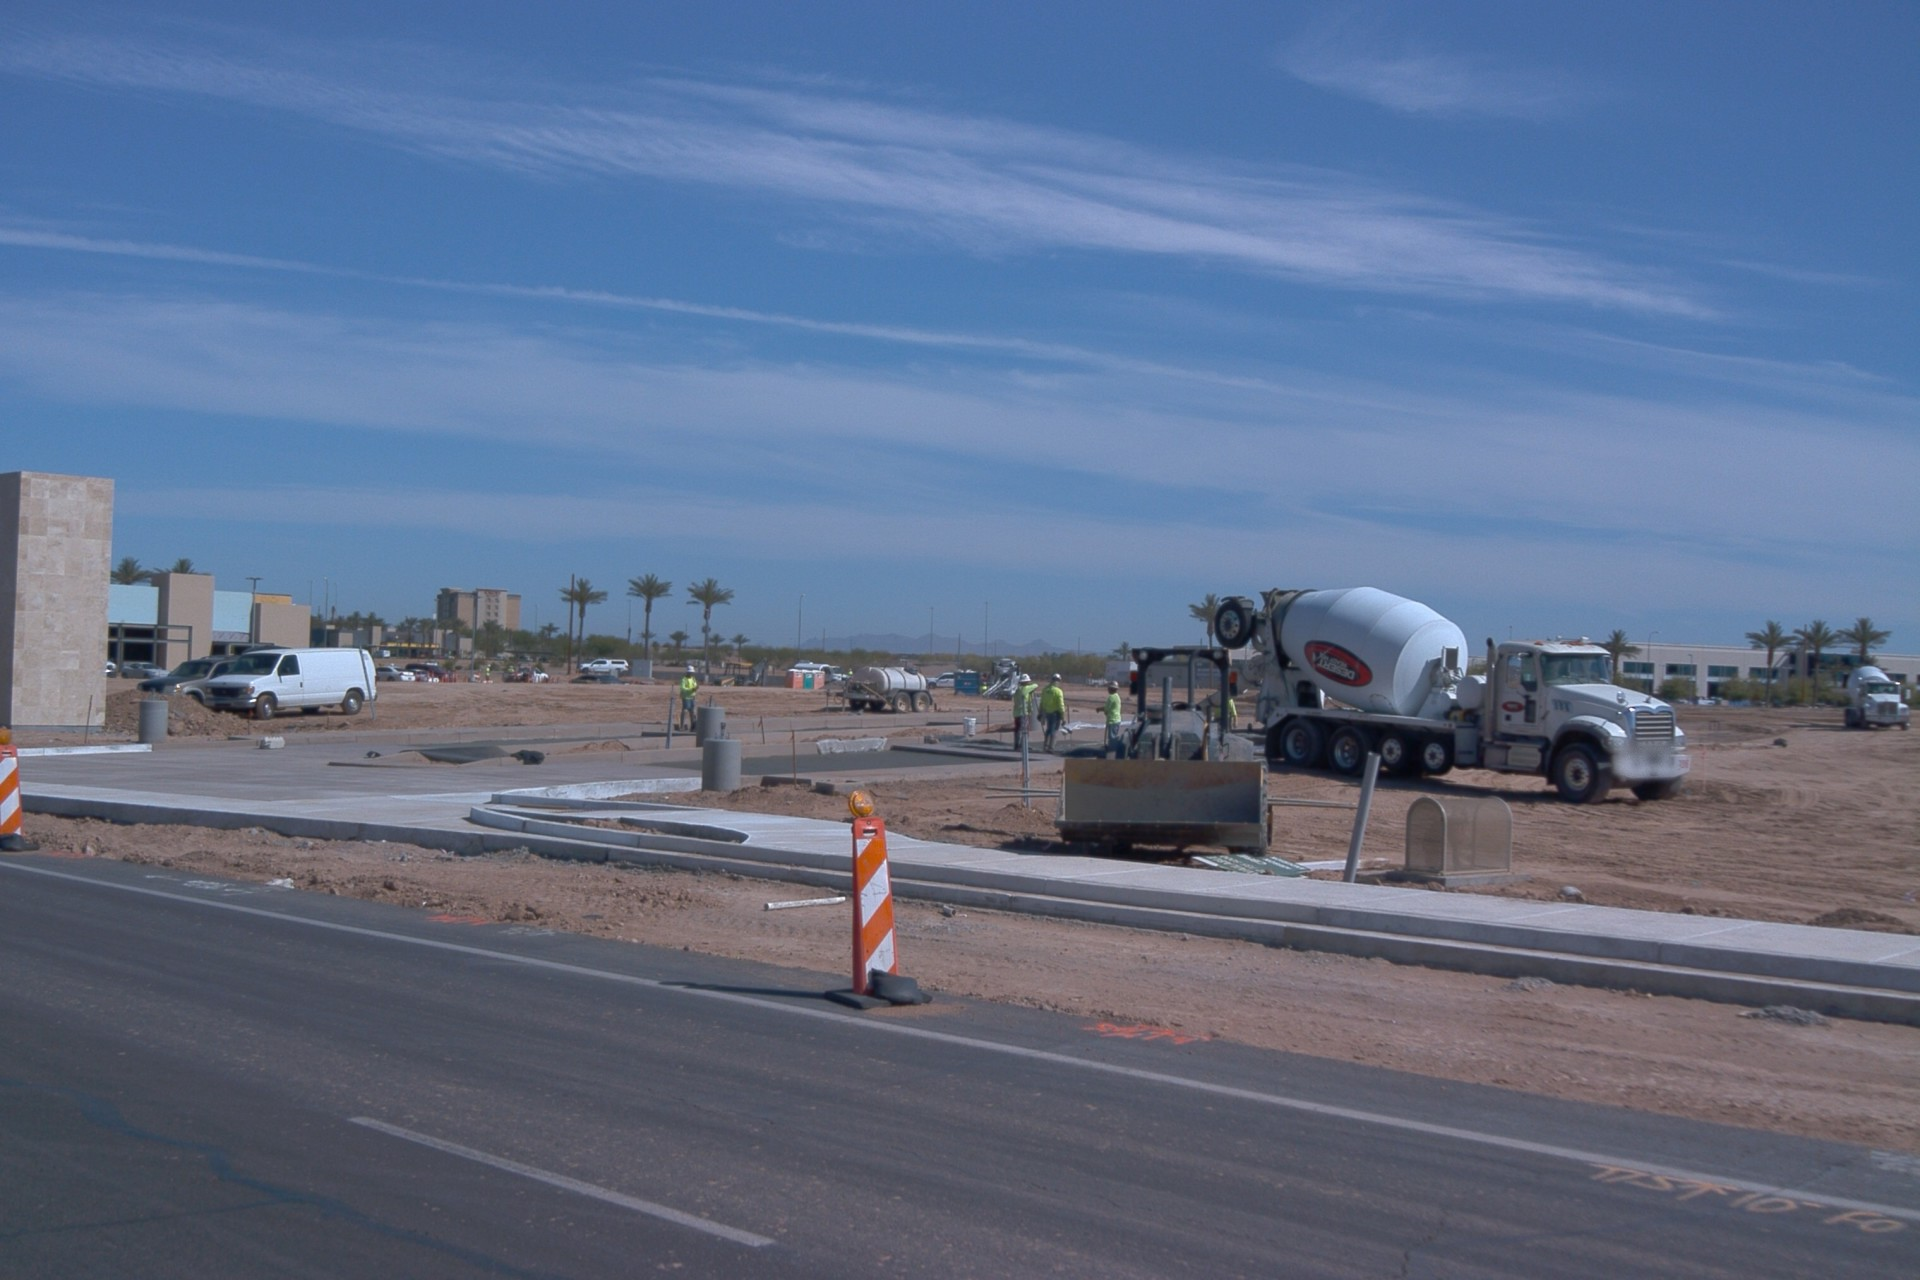TYPE_PEDESTRIAN: (1036, 671, 1065, 755), (1011, 674, 1040, 752), (1097, 680, 1124, 753), (678, 665, 702, 732), (1208, 688, 1240, 736), (481, 659, 494, 683), (980, 679, 991, 697), (506, 663, 516, 675)
TYPE_VEHICLE: (1199, 585, 1698, 807), (1053, 639, 1277, 866), (202, 648, 377, 723), (135, 656, 240, 715), (823, 661, 933, 715), (1842, 666, 1908, 731), (981, 658, 1025, 705), (709, 655, 767, 688), (794, 660, 851, 684), (501, 664, 549, 685), (123, 663, 174, 681), (580, 658, 631, 675), (404, 663, 449, 681), (372, 666, 416, 683), (568, 676, 625, 687), (927, 673, 959, 690), (107, 658, 118, 677), (1086, 680, 1109, 688), (374, 650, 393, 658)
